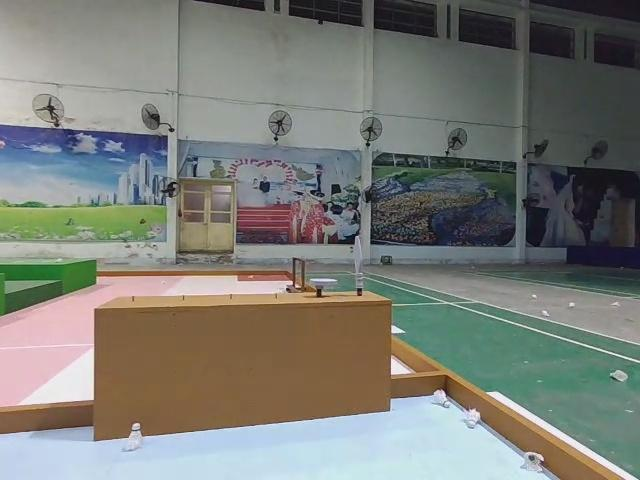Hand: (309, 277, 339, 296)
Sph: (353, 235, 366, 299)
